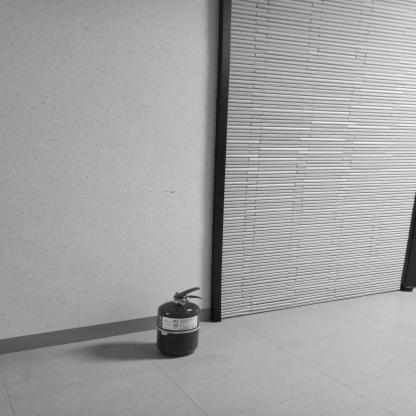FE: (158, 286, 202, 358)
